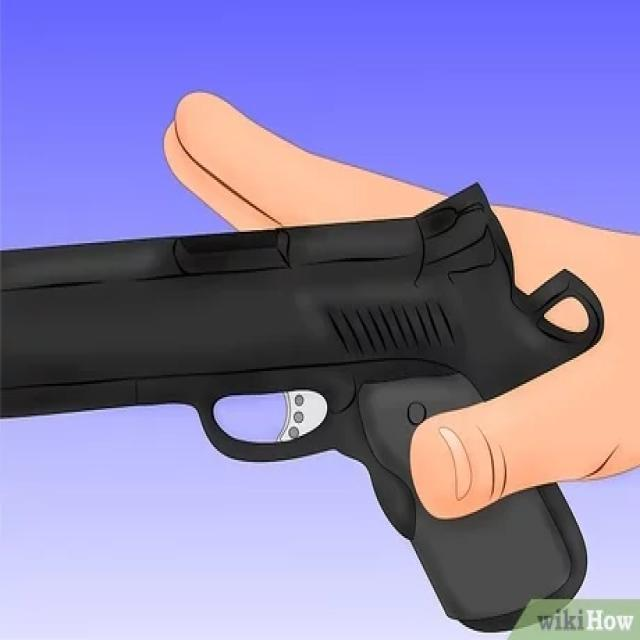HandGun: (0, 184, 640, 634)
